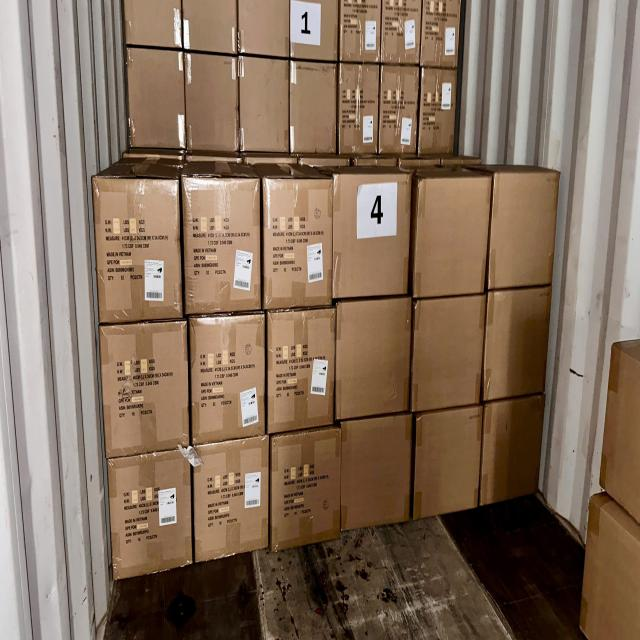Carton: (93, 175, 184, 321), (101, 325, 191, 451), (182, 175, 262, 309), (107, 458, 193, 572), (190, 315, 266, 438), (334, 172, 408, 296), (264, 175, 332, 309), (192, 444, 270, 553), (267, 308, 335, 430), (337, 302, 411, 414), (419, 175, 483, 293), (272, 434, 340, 544), (412, 296, 480, 406), (340, 418, 410, 524), (495, 169, 555, 286), (412, 412, 481, 513), (487, 289, 551, 397), (484, 400, 544, 502)
